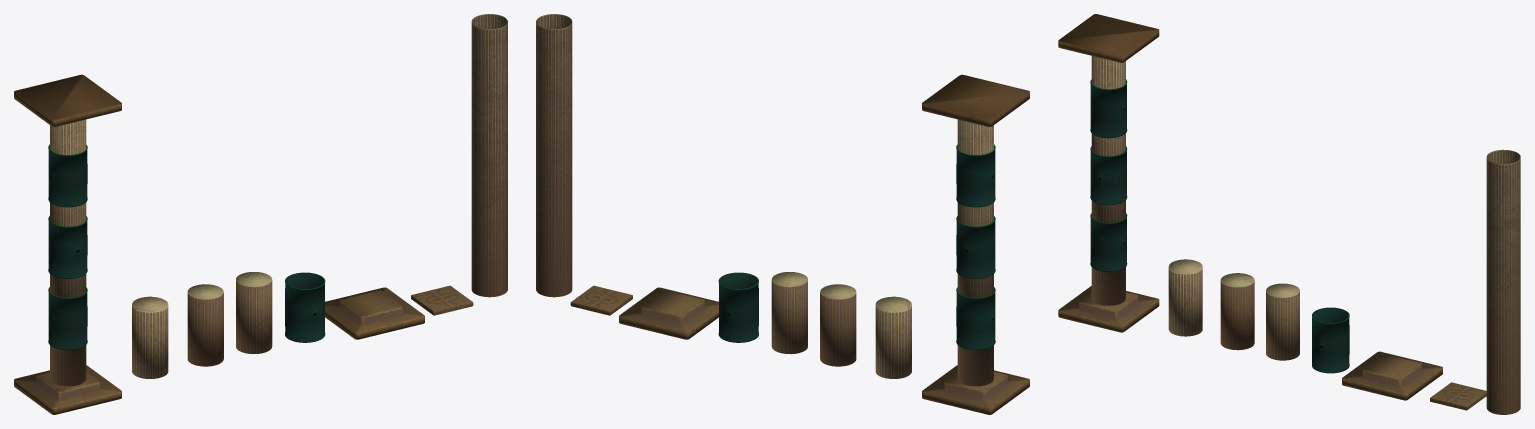
The model's file is trap_column_parts.fbx.
3 renders of one model, left to right at view 1: azimuth 30°, elevation 25°; view 2: azimuth 150°, elevation 25°; view 3: azimuth 330°, elevation 25°, orthographic. The views are drawn at different scales.
Visible parts, largest first — view 1: trap_column, trap_column.001, bottomrock_low.001, column3, column1, column2, trapmiddle, pressureplane; view 2: trap_column, trap_column.001, bottomrock_low.001, column3, column1, column2, trapmiddle, pressureplane; view 3: trap_column, trap_column.001, bottomrock_low.001, column1, column3, column2, trapmiddle, pressureplane.
Part boxes in pixels (left/top/right/bottom): trap_column: left=14, top=74, right=121, bottom=414; trap_column.001: left=471, top=14, right=507, bottom=297; bottomrock_low.001: left=325, top=287, right=424, bottom=339; column3: left=187, top=284, right=223, bottom=366; column1: left=132, top=296, right=168, bottom=378; column2: left=236, top=272, right=272, bottom=353; trapmiddle: left=285, top=272, right=325, bottom=342; pressureplane: left=411, top=285, right=473, bottom=315; trap_column: left=922, top=74, right=1029, bottom=414; trap_column.001: left=536, top=14, right=572, bottom=297; bottomrock_low.001: left=619, top=287, right=718, bottom=339; column3: left=820, top=284, right=856, bottom=366; column1: left=875, top=296, right=911, bottom=378; column2: left=771, top=272, right=807, bottom=353; trapmiddle: left=718, top=272, right=758, bottom=342; pressureplane: left=570, top=285, right=632, bottom=315; trap_column: left=1058, top=14, right=1159, bottom=332; trap_column.001: left=1486, top=149, right=1520, bottom=414; bottomrock_low.001: left=1342, top=351, right=1442, bottom=400; column1: left=1168, top=259, right=1202, bottom=336; column3: left=1220, top=273, right=1254, bottom=350; column2: left=1266, top=283, right=1299, bottom=360; trapmiddle: left=1312, top=307, right=1349, bottom=373; pressureplane: left=1430, top=382, right=1486, bottom=410.
Size of the model in its own units: 524 by 314 by 77.53.
Materials: 1 (1 with a texture image).
